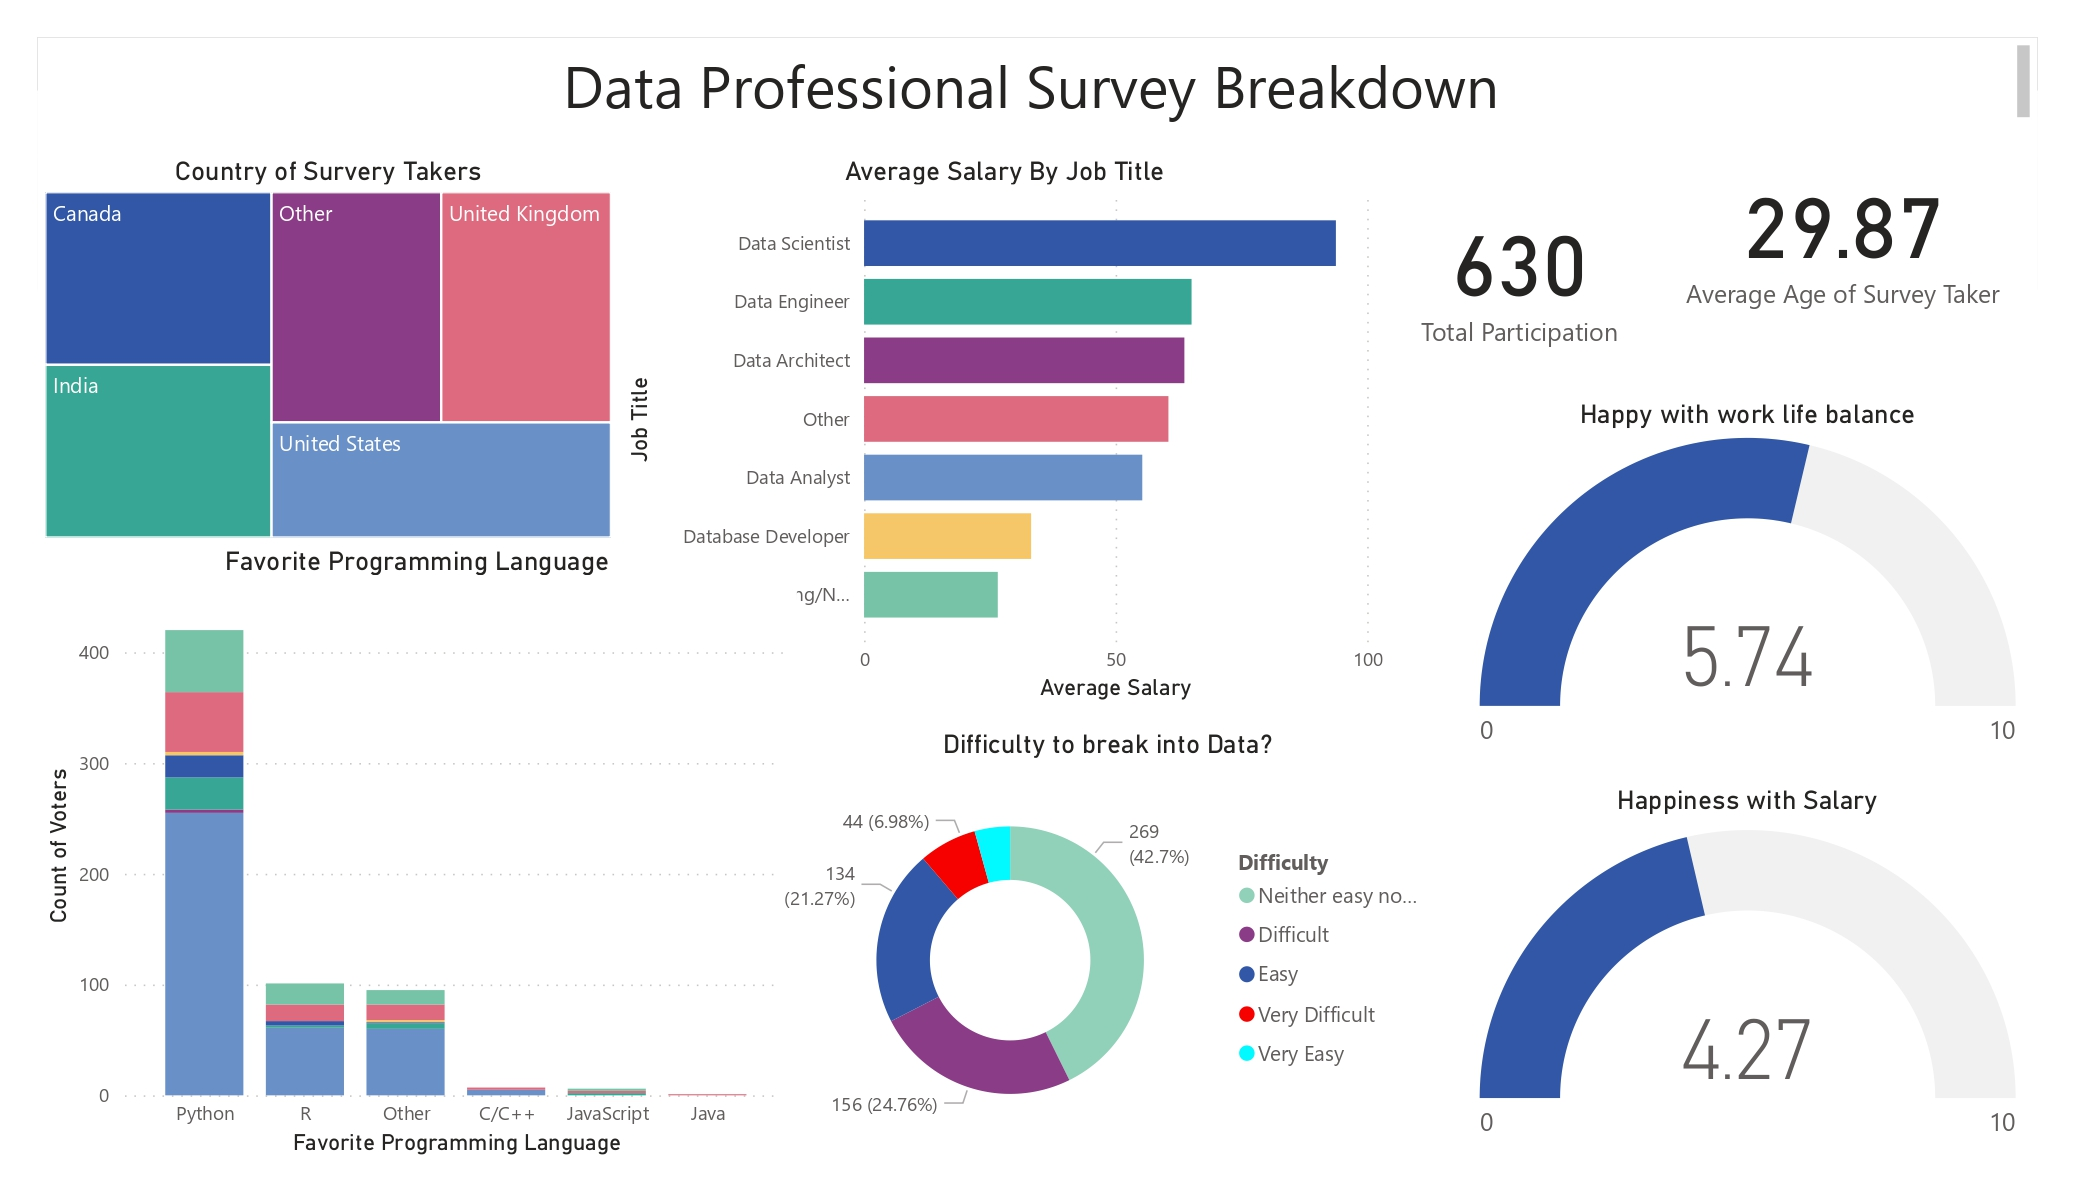

What the dashboard file says about the page in this screenshot:
{"tool":"powerbi","page":{"name":"Page 1","canvas":[1280,720],"ordinal":0},"visuals":[{"type":"textbox","box":[0,0,1280,76.9],"z":0},{"type":"card","fields":{"Values":["CountNonNull(Data Professional Survey.Unique ID)"]},"box":[866.2,75.4,164.6,149.2],"z":1000},{"type":"card","fields":{"Values":["Avg(Data Professional Survey.Q10 - Current Age)"]},"box":[1030.8,50.8,249.2,149.2],"z":2000},{"type":"barChart","title":"Average Salary By Job Title","fields":{"Category":["Data Professional Survey.Q1 - Which Title Best Fits your Current Role?.1"],"Y":["Avg(Data Professional Survey.Average Salary)"],"Series":["Data Professional Survey.Q1 - Which Title Best Fits your Current Role?.1"]},"box":[372.3,75.4,493.8,353.8],"z":3000},{"type":"columnChart","title":"Favorite Programming Language ","fields":{"Category":["Data Professional Survey.Q5 - Favorite Programming Language.1"],"Y":["CountNonNull(Data Professional Survey.Unique ID)"],"Series":["Data Professional Survey.Q1 - Which Title Best Fits your Current Role?.1"]},"box":[0,325.3,486.4,394.5],"z":4000},{"type":"treemap","title":"Country of Survery Takers","fields":{"Group":["Data Professional Survey.Q11 - Which Country do you live in?.1"],"Values":["Count(Data Professional Survey.Q11 - Which Country do you live in?.1)"]},"box":[0,75.4,372.3,249.2],"z":5000},{"type":"gauge","title":"Happy with work life balance","fields":{"Y":["Avg(Data Professional Survey.Q6 - How Happy are you in your Current Position with the following? (Work/Life Balance))"],"MinValue":["Min(Data Professional Survey.Q6 - How Happy are you in your Current Position with the following? (Work/Life Balance))"],"MaxValue":["Max(Data Professional Survey.Q6 - How Happy are you in your Current Position with the following? (Work/Life Balance))1"]},"box":[918.5,230.8,352.3,233.8],"z":6000},{"type":"gauge","title":"Happiness with Salary","fields":{"Y":["Avg(Data Professional Survey.Q6 - How Happy are you in your Current Position with the following? (Salary))"],"MinValue":["Min(Data Professional Survey.Q6 - How Happy are you in your Current Position with the following? (Salary))"],"MaxValue":["Max(Data Professional Survey.Q6 - How Happy are you in your Current Position with the following? (Salary))"]},"box":[918.5,478.5,352.3,241.5],"z":7000},{"type":"donutChart","title":"Difficulty to break into  Data?","fields":{"Category":["Data Professional Survey.Q7 - How difficult was it for you to break into Data?"],"Y":["CountNonNull(Data Professional Survey.Q7 - How difficult was it for you to break into Data?)"]},"box":[472.3,441.5,426.2,278.5],"z":8000}]}

Visuals, with their boxes in screenshot pixels (x1, y1, x2, y2):
textbox: box=[38, 38, 2038, 158]
card - CountNonNull(Data Professional Survey.Unique ID): box=[1391, 155, 1648, 388]
card - Avg(Data Professional Survey.Q10 - Current Age): box=[1648, 117, 2038, 350]
"Average Salary By Job Title" barChart: box=[619, 155, 1391, 708]
"Favorite Programming Language " columnChart: box=[38, 546, 798, 1162]
"Country of Survery Takers" treemap: box=[38, 155, 619, 545]
"Happy with work life balance" gauge: box=[1473, 398, 2023, 763]
"Happiness with Salary" gauge: box=[1473, 785, 2023, 1162]
"Difficulty to break into  Data?" donutChart: box=[775, 727, 1441, 1162]
